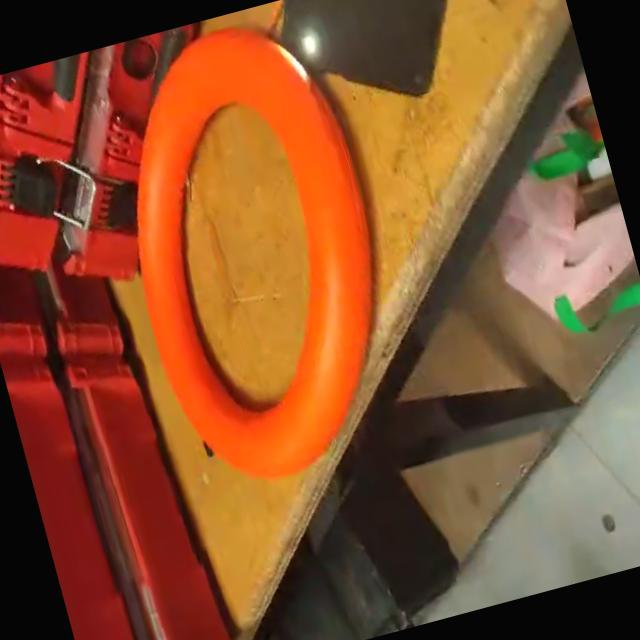note: (76, 1, 432, 508)
